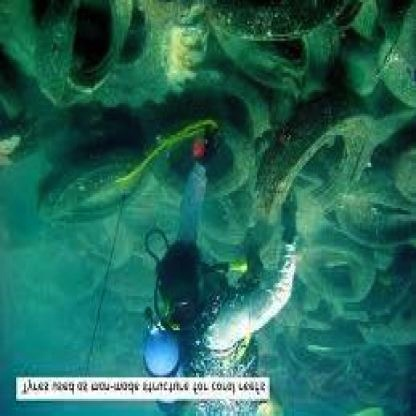tire: (271, 112, 389, 232), (145, 90, 265, 204), (212, 2, 366, 90), (48, 5, 172, 110), (43, 131, 158, 234), (300, 221, 366, 319)
